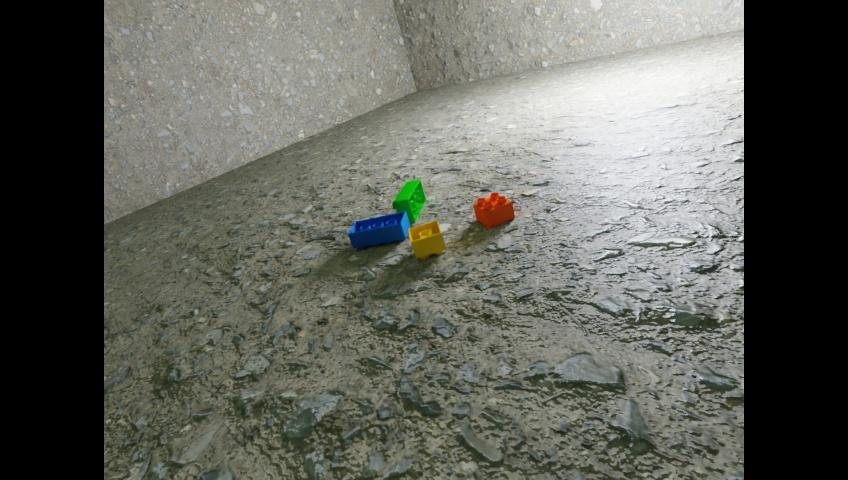2x2_orange: (473, 192, 514, 227)
2x2_yellow: (408, 219, 445, 258)
4x2_blue: (347, 211, 409, 248)
4x2_green: (392, 178, 425, 222)
